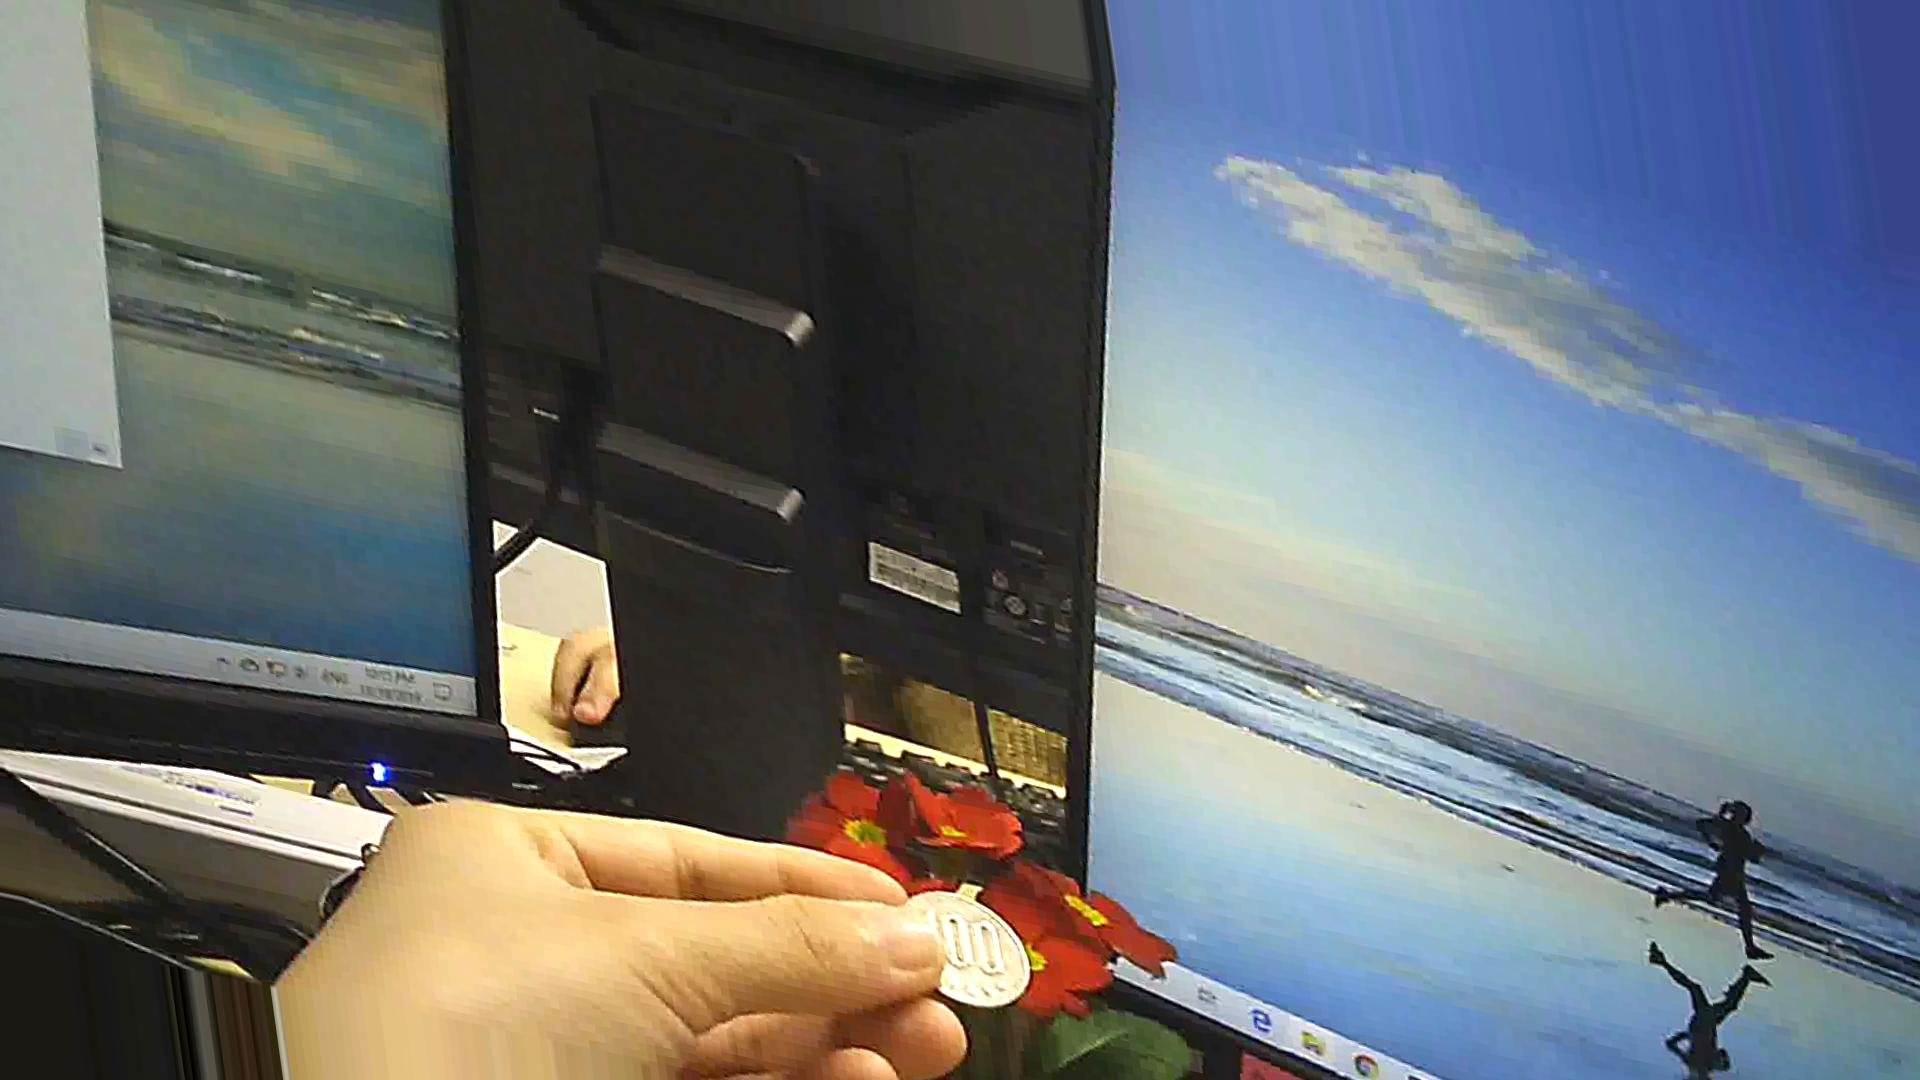100 Yen: (891, 862, 1044, 1019)
